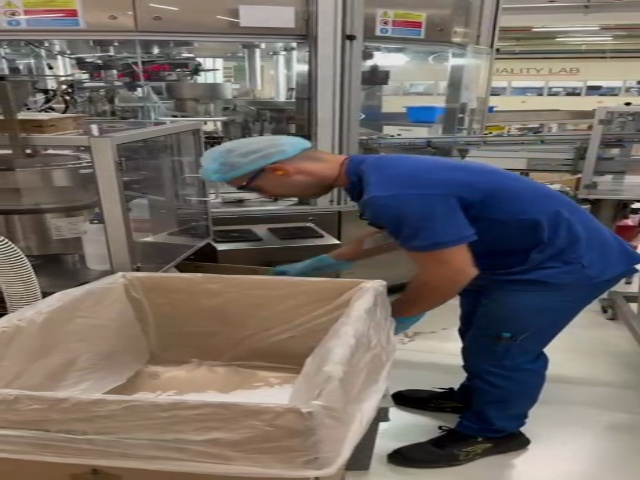Earplug: (263, 163, 293, 182)
Hairnet: (205, 136, 320, 177)
No_Helmet: (205, 137, 313, 177)
No_Vest: (349, 148, 638, 292)
Person: (200, 131, 640, 468)
Safety_Goggles: (229, 164, 268, 196)
